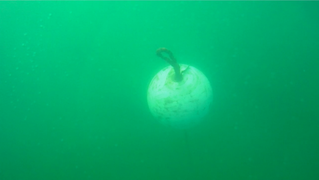buoy: (145, 63, 214, 130)
